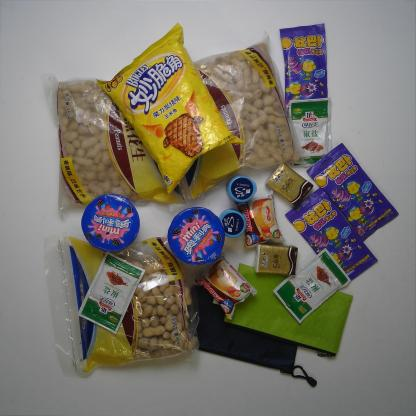Candy: (306, 141, 399, 242), (284, 185, 378, 282), (278, 21, 330, 108)
Dessert: (193, 250, 259, 322), (80, 193, 141, 254), (166, 204, 226, 266), (236, 188, 287, 249)
Dried Food: (174, 30, 314, 206), (45, 235, 201, 381), (39, 71, 186, 220)
Gum: (218, 208, 248, 238), (225, 175, 257, 203)
Puffed Food: (96, 20, 245, 197)
Seasoner: (272, 247, 352, 325), (76, 250, 146, 336), (288, 98, 331, 168)
Stationery: (186, 282, 319, 388), (222, 262, 354, 358)
Tissue: (263, 161, 314, 209), (252, 243, 298, 275)
